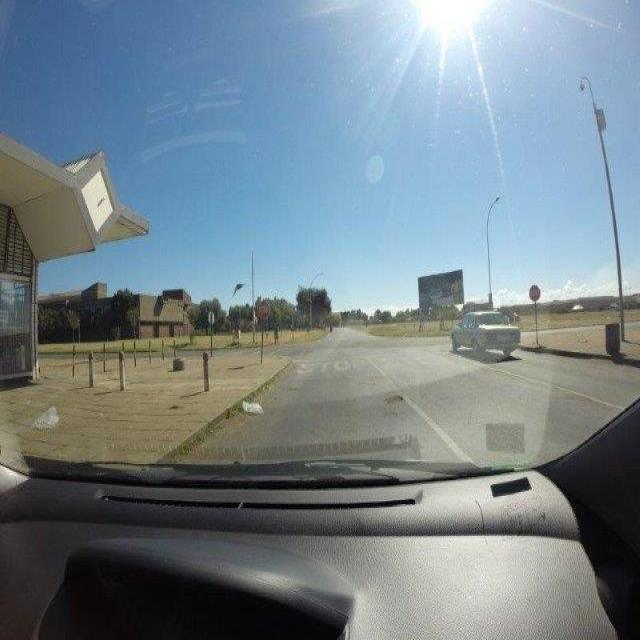lubang: (381, 386, 408, 406)
